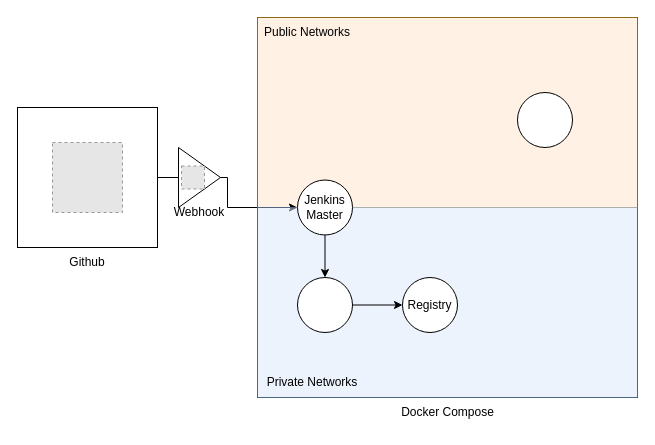
Image size: 655x445. Some labels were removed from this diagram. Grey dashed boxes stand in for pictures. Each missing label, with the centre of its shape:
Jenkins Slave: point 324,304
Web: point 544,120
